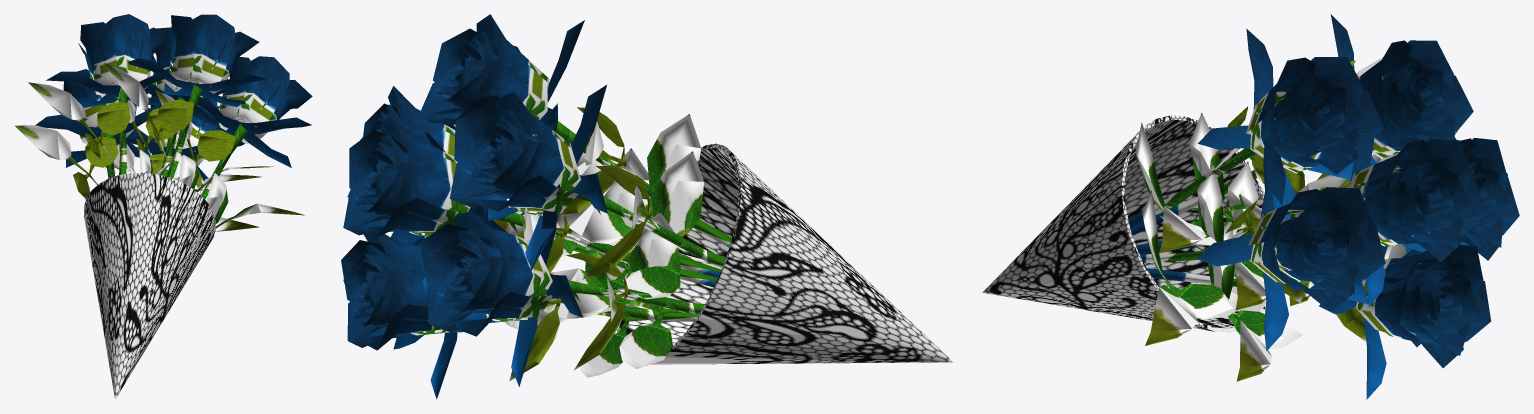
The model's file is flores.obj.
3 views of the same model, side by side, from view 1: azimuth 30°, elevation 25°; view 2: azimuth 150°, elevation 25°; view 3: azimuth 270°, elevation 25° (orthographic). The views are drawn at different scales.
Parts seen in each view (by area): view 1: Cono, rose.obj.003, rose.obj.001_rose.obj.006, rose.obj.005, rose.obj.002, rose.obj, rose.obj.004; view 2: Cono, rose.obj.005, rose.obj.002, rose.obj, rose.obj.003, rose.obj.004, rose.obj.001_rose.obj.006; view 3: Cono, rose.obj.001_rose.obj.006, rose.obj.003, rose.obj.004, rose.obj, rose.obj.005, rose.obj.002.
Boxes of the visible parts, left/top/right/bottom form: Cono: left=84, top=172, right=215, bottom=399; rose.obj.003: left=104, top=14, right=273, bottom=192; rose.obj.001_rose.obj.006: left=155, top=56, right=312, bottom=237; rose.obj.005: left=28, top=14, right=197, bottom=174; rose.obj.002: left=15, top=69, right=203, bottom=198; rose.obj: left=89, top=27, right=261, bottom=192; rose.obj.004: left=113, top=95, right=259, bottom=231; Cono: left=617, top=143, right=953, bottom=364; rose.obj.005: left=449, top=85, right=725, bottom=299; rose.obj.002: left=420, top=184, right=704, bottom=386; rose.obj: left=343, top=102, right=717, bottom=314; rose.obj.003: left=418, top=14, right=731, bottom=252; rose.obj.004: left=341, top=233, right=698, bottom=399; rose.obj.001_rose.obj.006: left=347, top=86, right=721, bottom=277; Cono: left=982, top=115, right=1266, bottom=332; rose.obj.001_rose.obj.006: left=1140, top=139, right=1385, bottom=351; rose.obj.003: left=1128, top=28, right=1383, bottom=252; rose.obj.004: left=1146, top=220, right=1491, bottom=399; rose.obj: left=1136, top=136, right=1485, bottom=310; rose.obj.005: left=1130, top=14, right=1473, bottom=235; rose.obj.002: left=1144, top=131, right=1519, bottom=306.
Bounding box in the file's own units: 0.7492 × 0.627 × 0.8063.
Materials: 2 (2 with a texture image).
